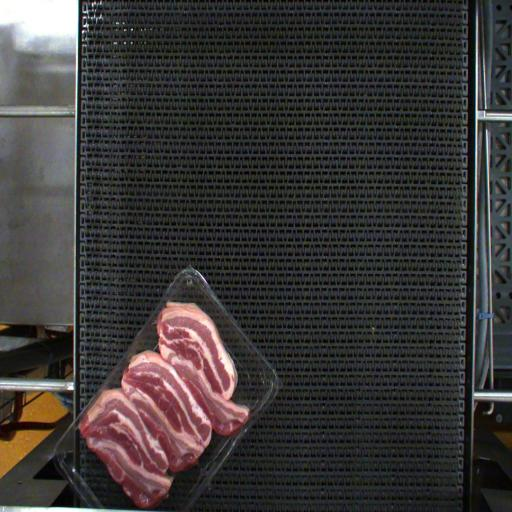packaging-error: (74, 385, 108, 432), (142, 297, 166, 325)
